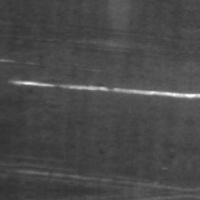scratches: (9, 77, 190, 101)
